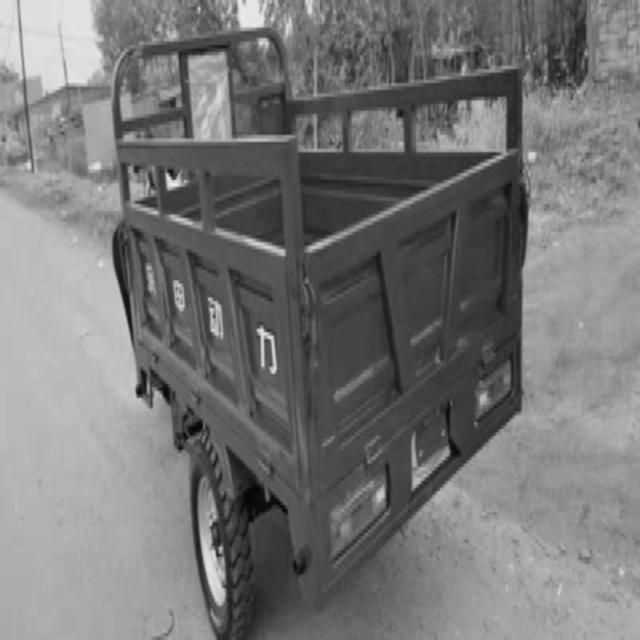tricycle: (108, 21, 530, 636)
